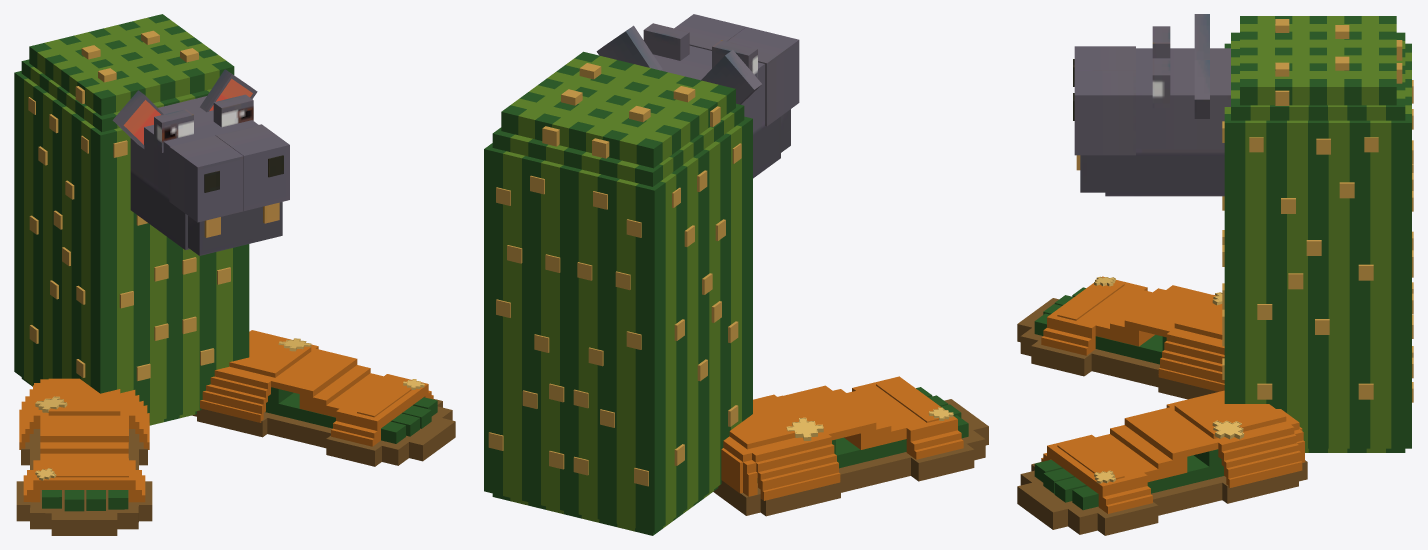
File: cactoHippoptamo.fbx
The picture shows the model from 3 angles, left to right: view 1: azimuth 30°, elevation 25°; view 2: azimuth 150°, elevation 25°; view 3: azimuth 270°, elevation 25°; orthographic projection. The views are drawn at different scales.
Parts seen in each view (by area): view 1: cactoHippoptamo; view 2: cactoHippoptamo; view 3: cactoHippoptamo.
Boxes of the visible parts, x1,y1,x2,y2 form: cactoHippoptamo: (14,14,455,535); cactoHippoptamo: (484,14,988,535); cactoHippoptamo: (1017,14,1413,535).
Bounding box in the file's own units: 625 × 496 × 462.
